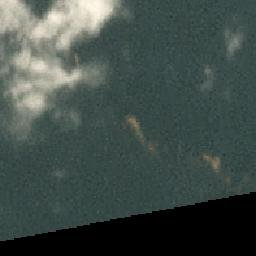cloud: (1, 1, 118, 138)
debris: (125, 114, 145, 144), (199, 153, 220, 174)
